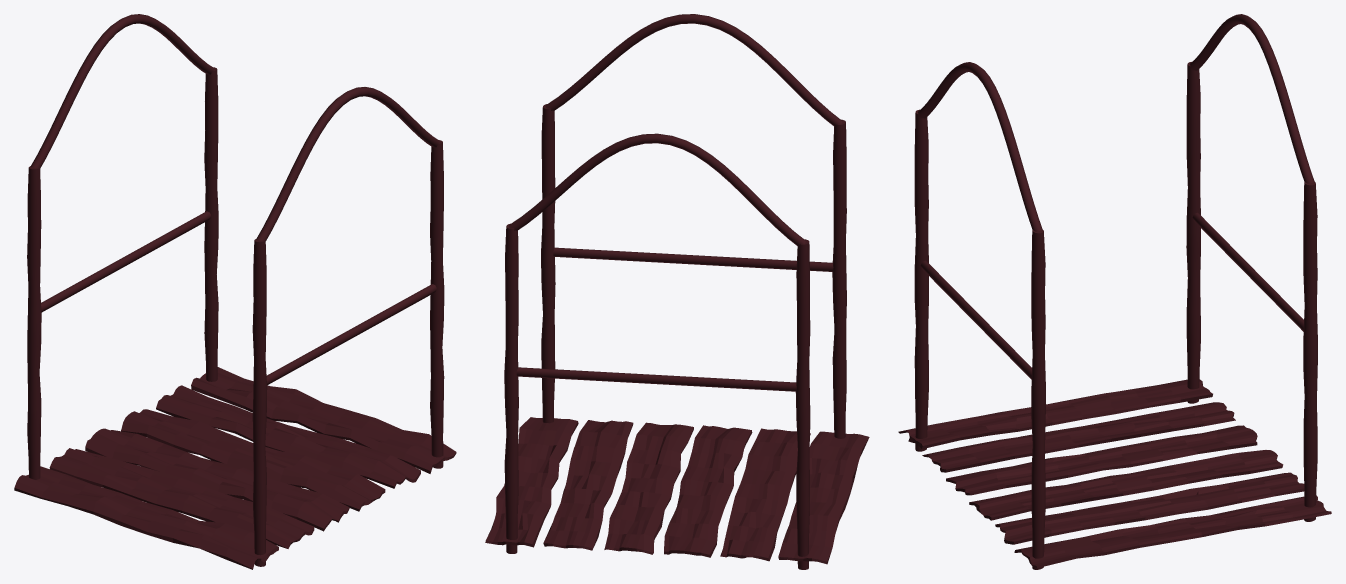
The model's file is level_one_tree_platform_1.fbx.
3 views of the same model, side by side, from view 1: azimuth 30°, elevation 25°; view 2: azimuth 150°, elevation 25°; view 3: azimuth 270°, elevation 25° (orthographic). The views are drawn at different scales.
Visible parts, largest first — view 1: TreePlatform01; view 2: TreePlatform01; view 3: TreePlatform01.
Boxes of the visible parts, left/top/right/bottom form: TreePlatform01: left=14, top=14, right=456, bottom=569; TreePlatform01: left=485, top=14, right=869, bottom=569; TreePlatform01: left=898, top=14, right=1331, bottom=569.
Size of the model in its own units: 427 by 435 by 478.
